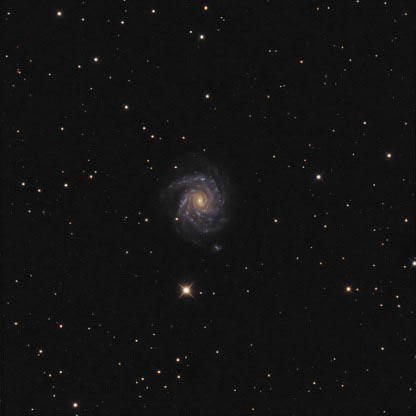NGC 1232: (158, 154, 242, 267)
